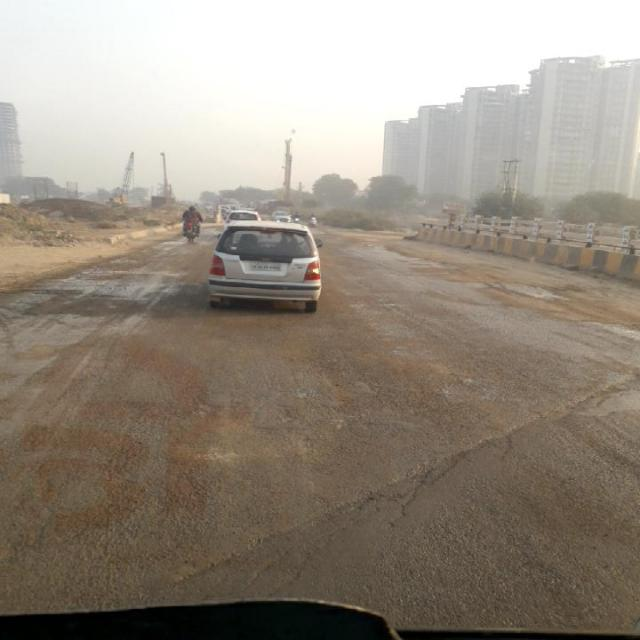Surface Erosion: (367, 217, 640, 577), (17, 190, 225, 640)
